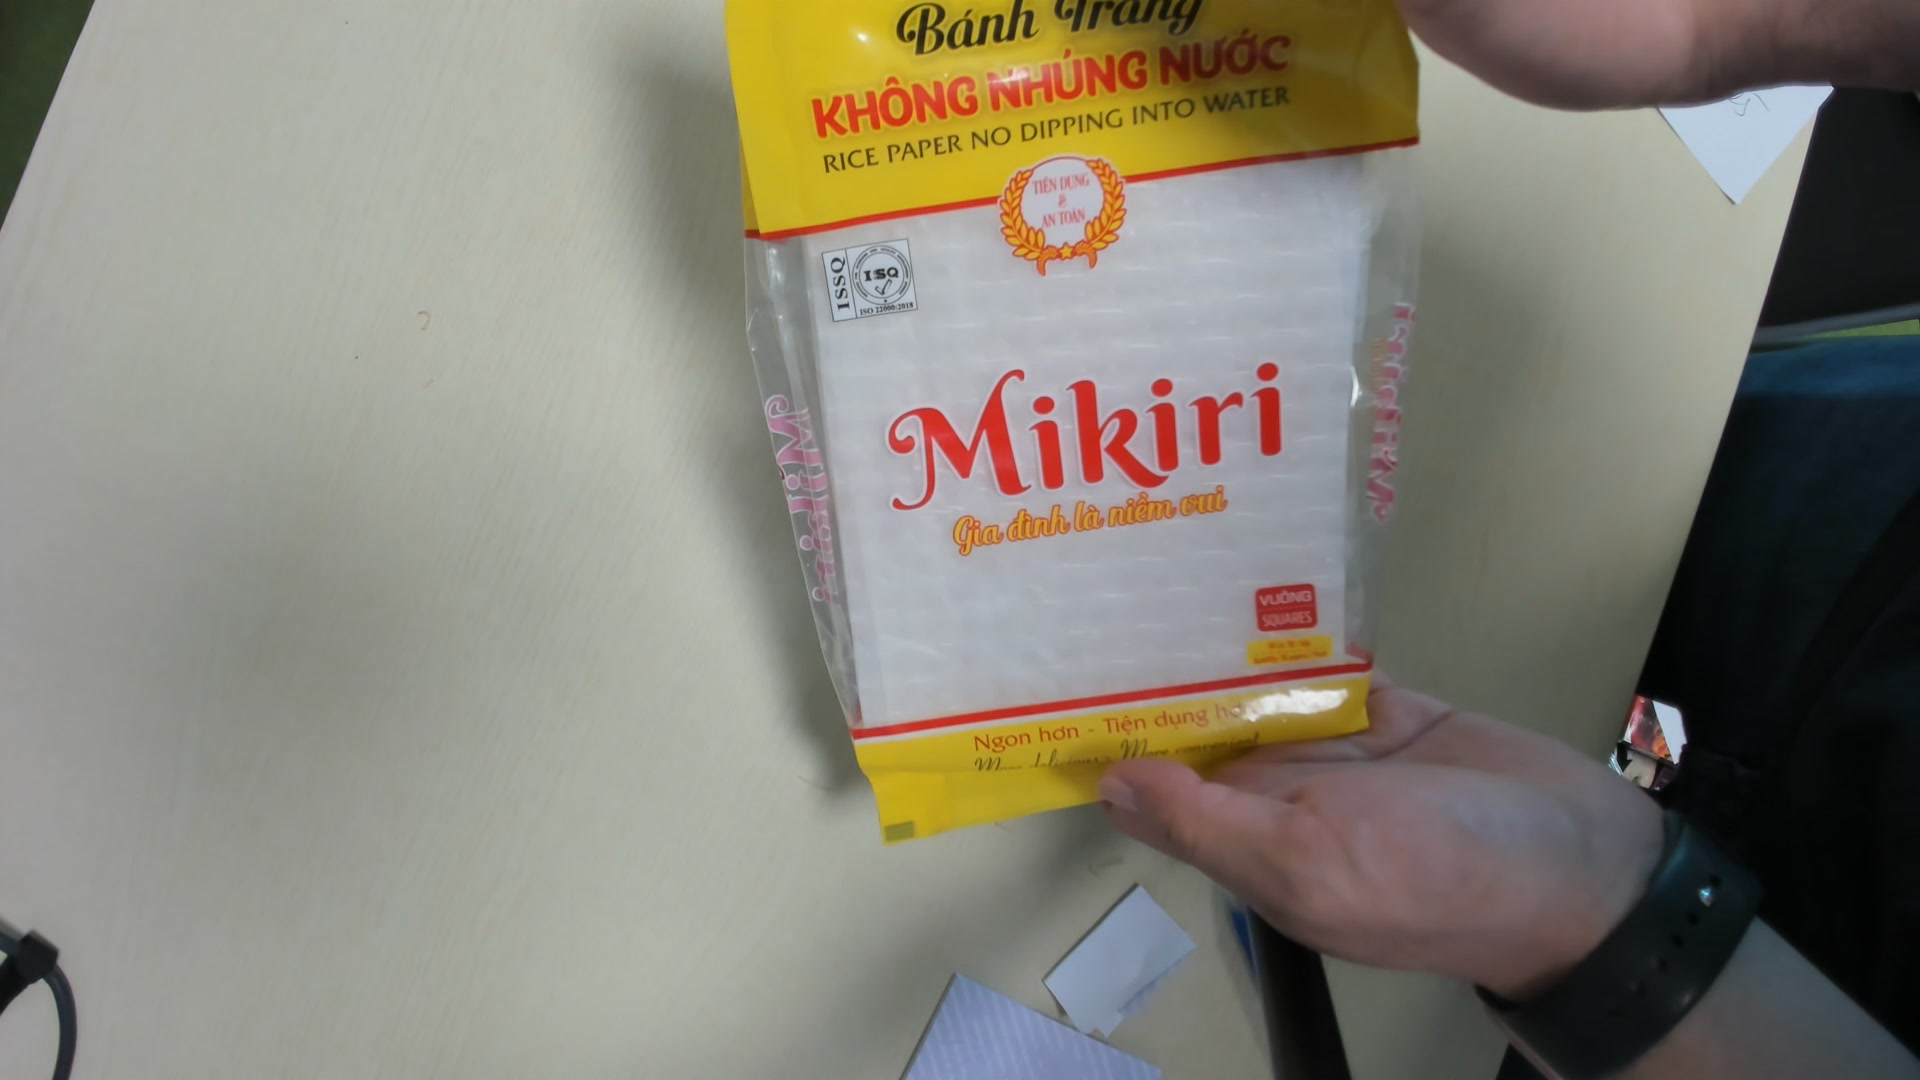InstantMeals_200_299g_NonHalal_NonHealthy: (723, 1, 1414, 845)
